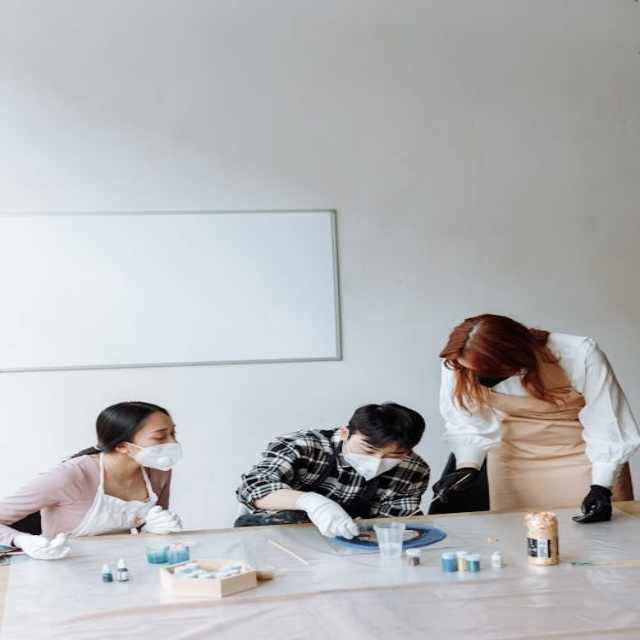Guantes: (296, 489, 361, 540), (14, 528, 74, 561), (571, 486, 617, 525), (143, 505, 187, 538)
Mascara: (341, 441, 403, 480), (123, 441, 183, 470)
Sin_gafas: (347, 439, 406, 459), (137, 424, 179, 441)
